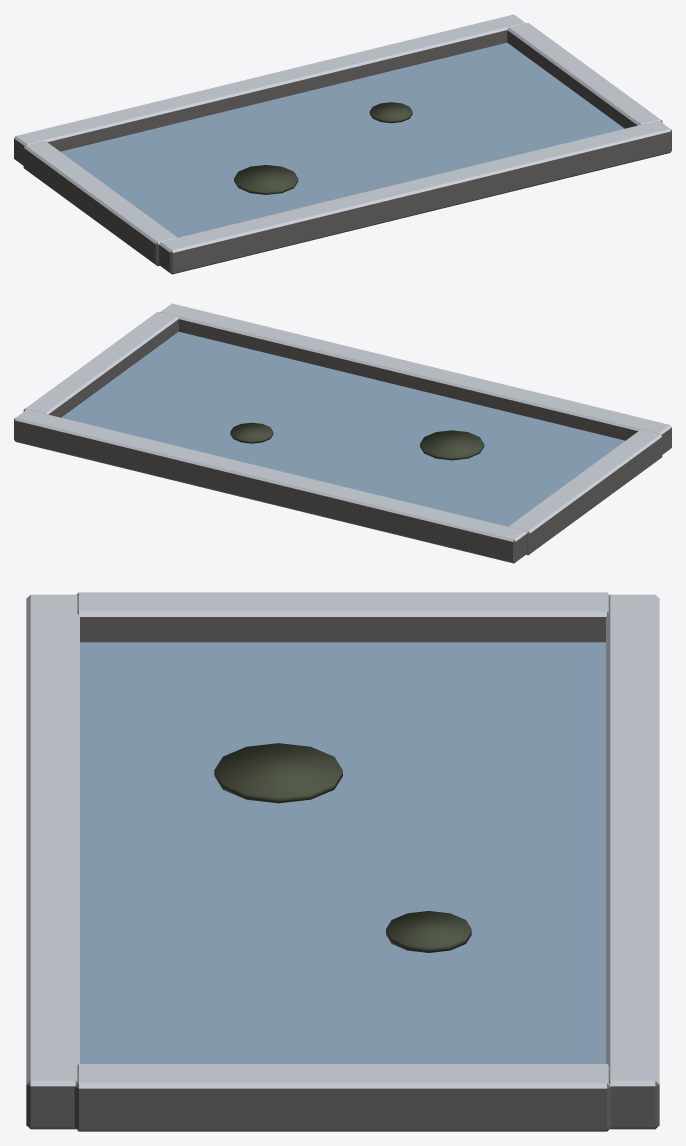
File: ornamental_pond.glb
3 views of the same model, one above another, from view 1: azimuth 30°, elevation 25°; view 2: azimuth 150°, elevation 25°; view 3: azimuth 270°, elevation 25° (orthographic). The views are drawn at different scales.
Parts seen in each view (by area): view 1: ornamental_pond; view 2: ornamental_pond; view 3: ornamental_pond.
Part boxes in pixels (<box>): ornamental_pond: <box>14,14,671,274</box>; ornamental_pond: <box>14,303,671,563</box>; ornamental_pond: <box>26,592,659,1131</box>.
Size of the model in its own units: 10.9 by 0.5 by 5.9.
